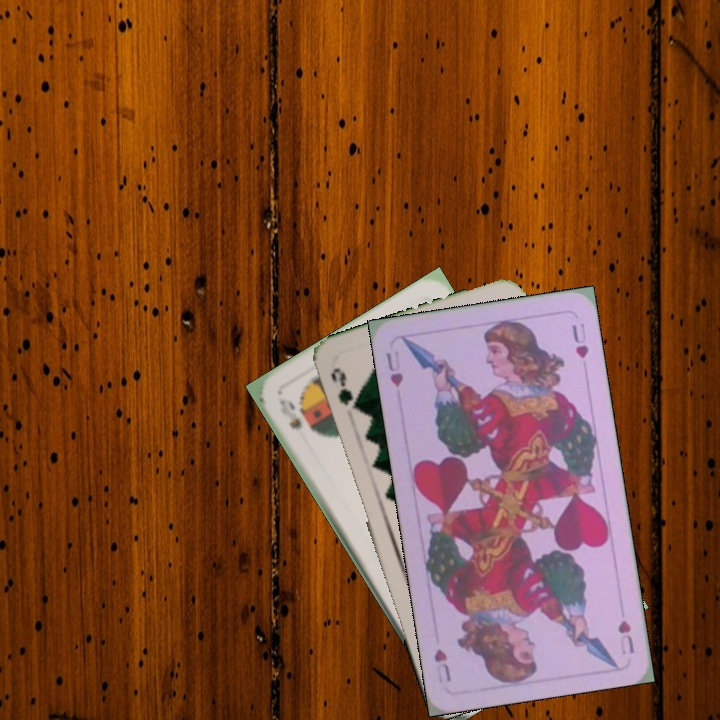G9: (326, 363, 361, 414)
HU: (382, 348, 406, 389), (614, 616, 637, 657)
SO: (275, 394, 305, 433)
